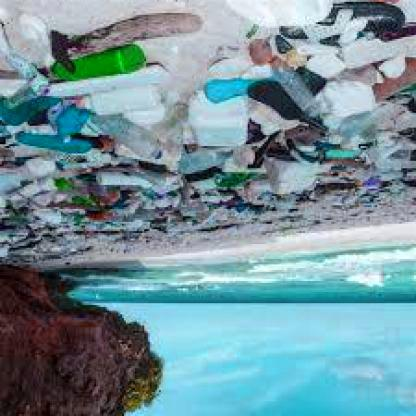Plastic: (190, 84, 258, 149), (43, 46, 149, 86), (93, 110, 164, 159), (267, 56, 322, 118), (99, 165, 169, 190)
